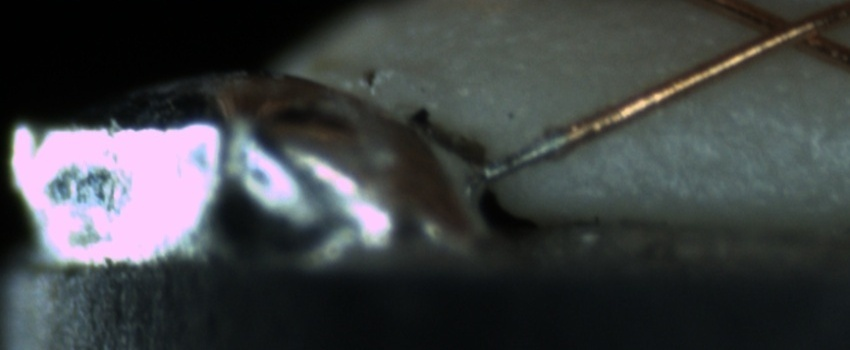CL: (735, 1, 841, 61)
TS: (476, 131, 566, 184)
TTCW: (476, 126, 578, 181)
